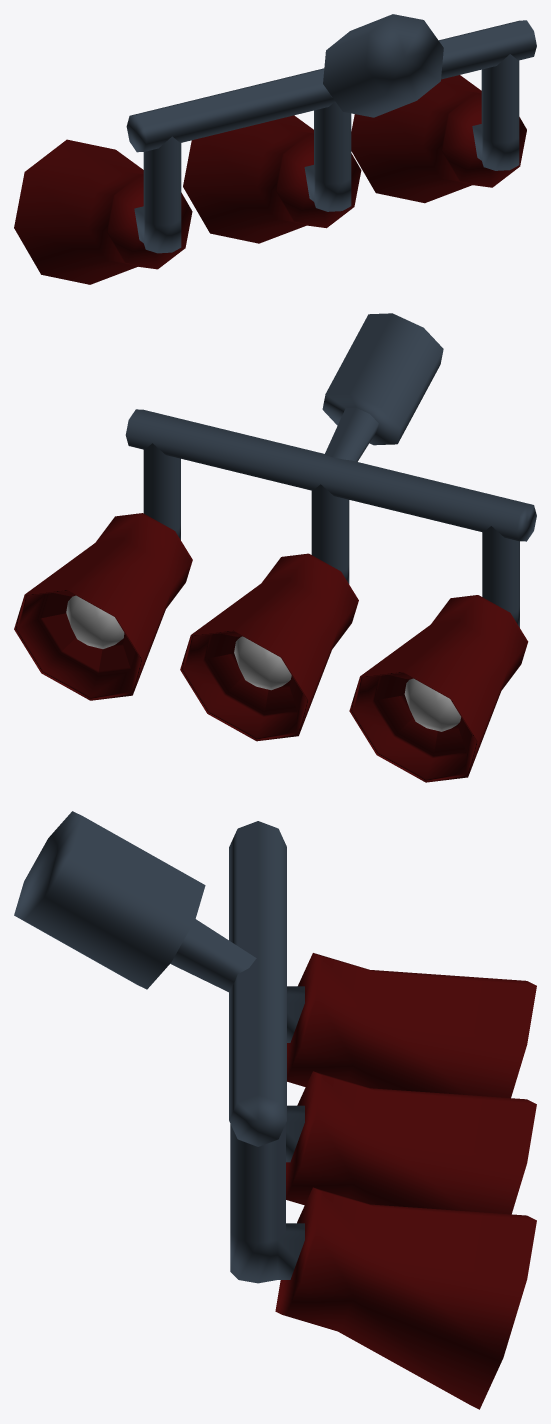
Rendered from SpotLight (1).fbx.
3 views of the same model, one above another, from view 1: azimuth 30°, elevation 25°; view 2: azimuth 150°, elevation 25°; view 3: azimuth 270°, elevation 25° (orthographic). The views are drawn at different scales.
Parts seen in each view (by area): view 1: polySurface11; view 2: polySurface11, polySurface12, polySurface13, polySurface14; view 3: polySurface11.
Boxes of the visible parts, x1,y1,x2,y2 form: polySurface11: (14, 14, 536, 284); polySurface11: (14, 313, 536, 782); polySurface12: (66, 595, 124, 648); polySurface13: (234, 636, 291, 690); polySurface14: (404, 678, 460, 731); polySurface11: (14, 811, 536, 1409).
Size of the model in its own units: 11.88 by 8.05 by 8.08.
